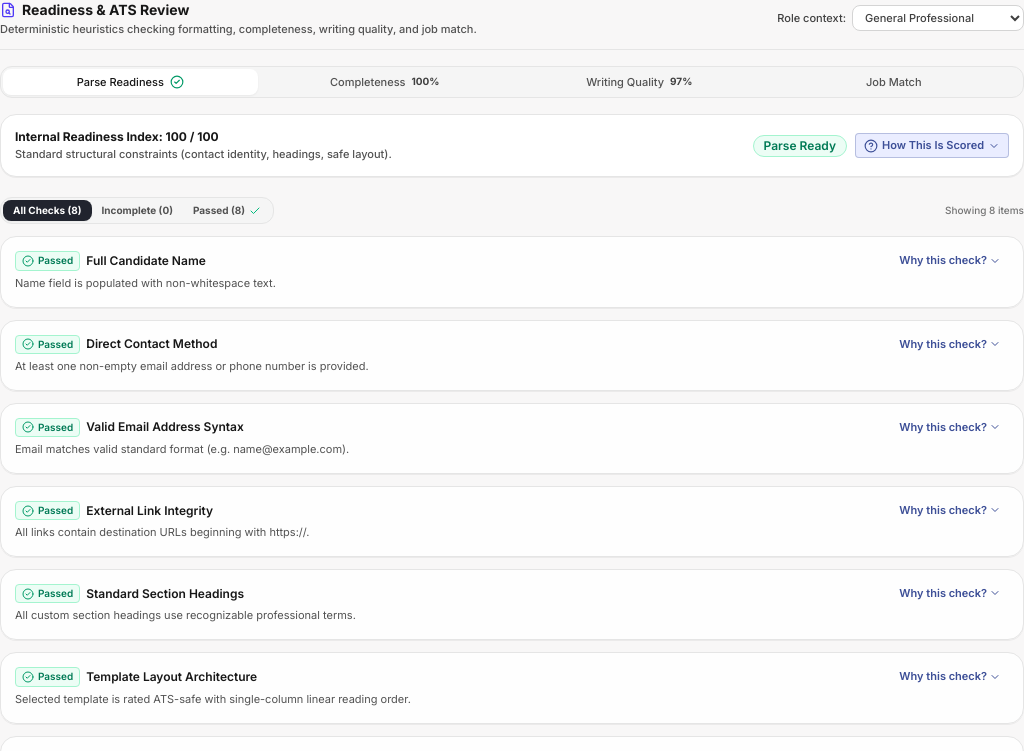
Test: ATS Readiness Panel Component (RS-103) › allows ignoring subjective writing quality suggestions (RS-102)
The image size is (1024, 751).
// Click Writing Quality tab
Click the tab "Writing Quality 97%" at [639, 82], box [512,69,766,95]
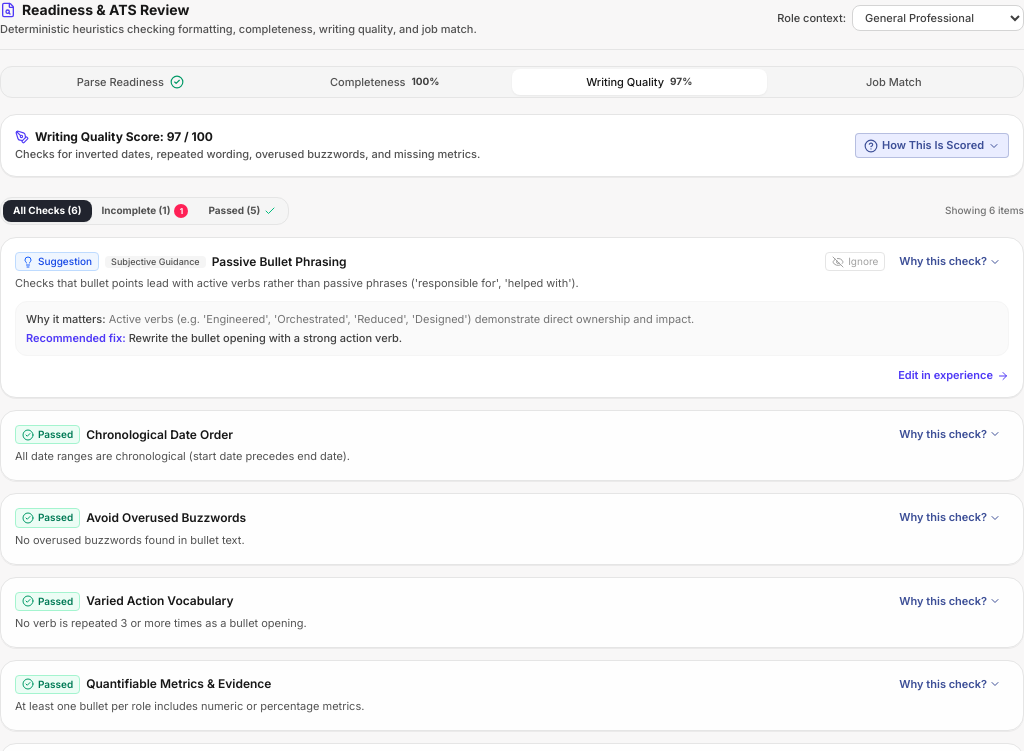
Check: the heading "Passive Bullet Phrasing" is shown, box [212,254,347,270]
Check: the text "Subjective Guidance" is shown, box [105,256,206,268]
// Click Ignore
Click the button "Ignore" at [855, 262], box [825,252,885,271]
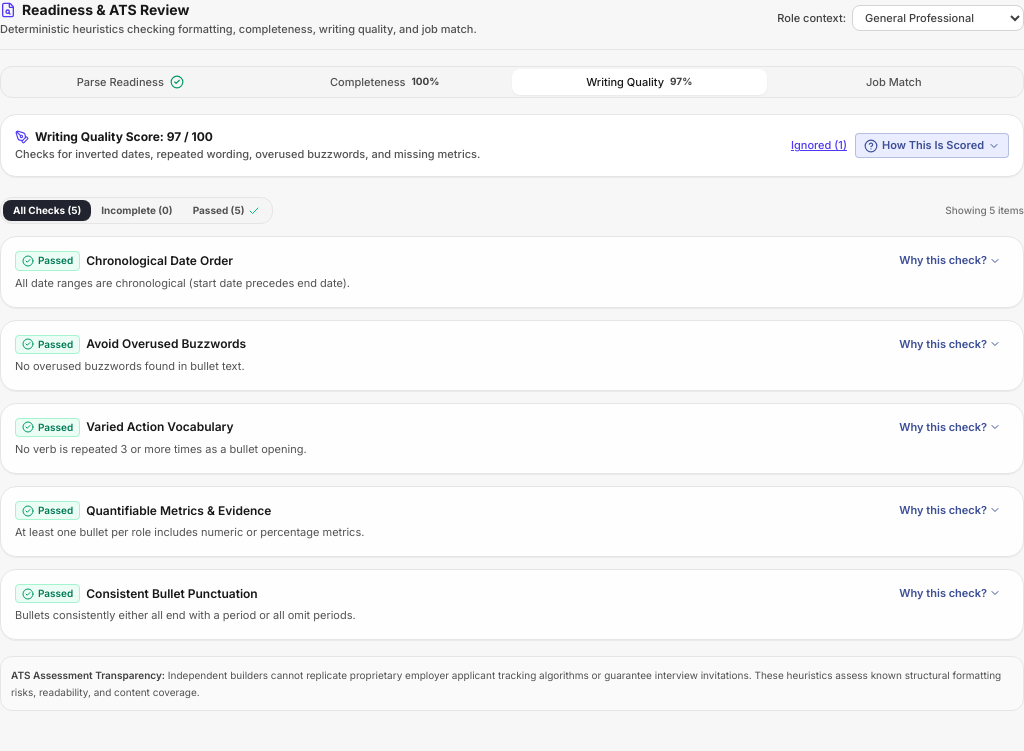
Check: the heading "Passive Bullet Phrasing" is gone
Check: the button "Ignored (1)" is shown, box [791,138,847,153]
